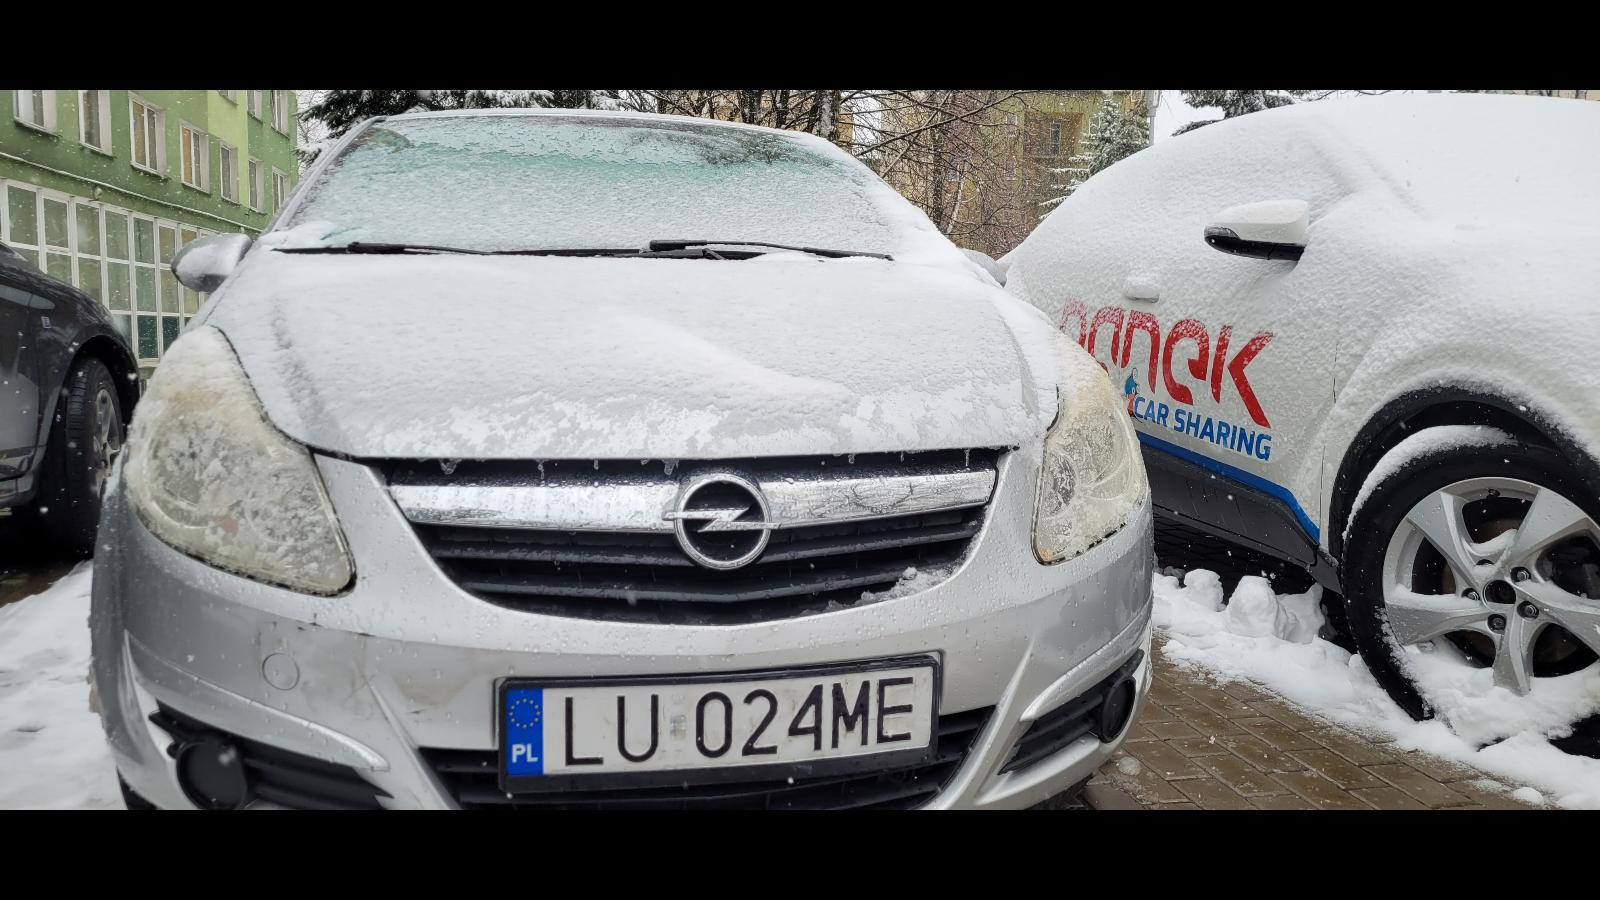plates: (500, 658, 941, 794)
